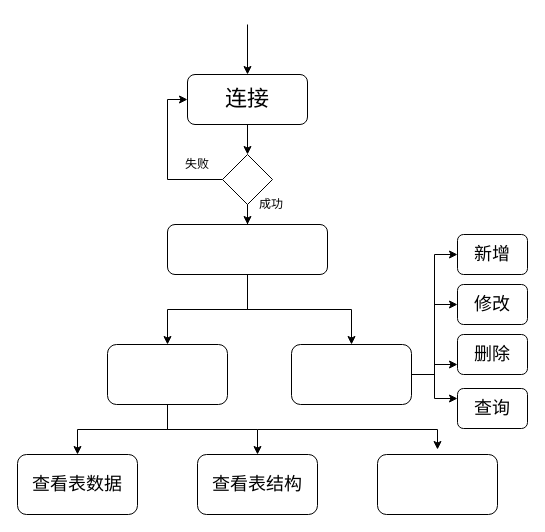
The diagram is 545 pixels wide and 532 high, and some of its shapes have lost their labels. The box of each missing label's shape, as (x1, y1, x2, y2) in pixels:
修改删除表: (376, 454, 498, 514)
执行SQL: (290, 344, 412, 404)
显示数据库列表: (166, 224, 328, 274)
查看数据表: (106, 344, 228, 404)
